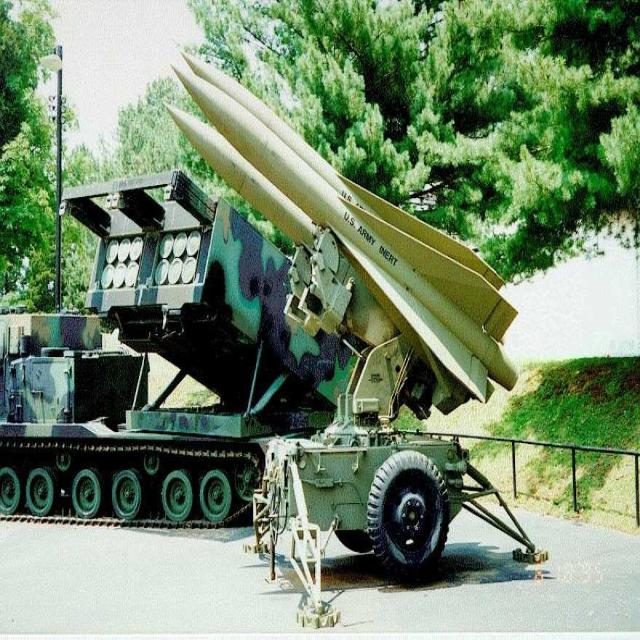missile: (170, 51, 522, 397)
